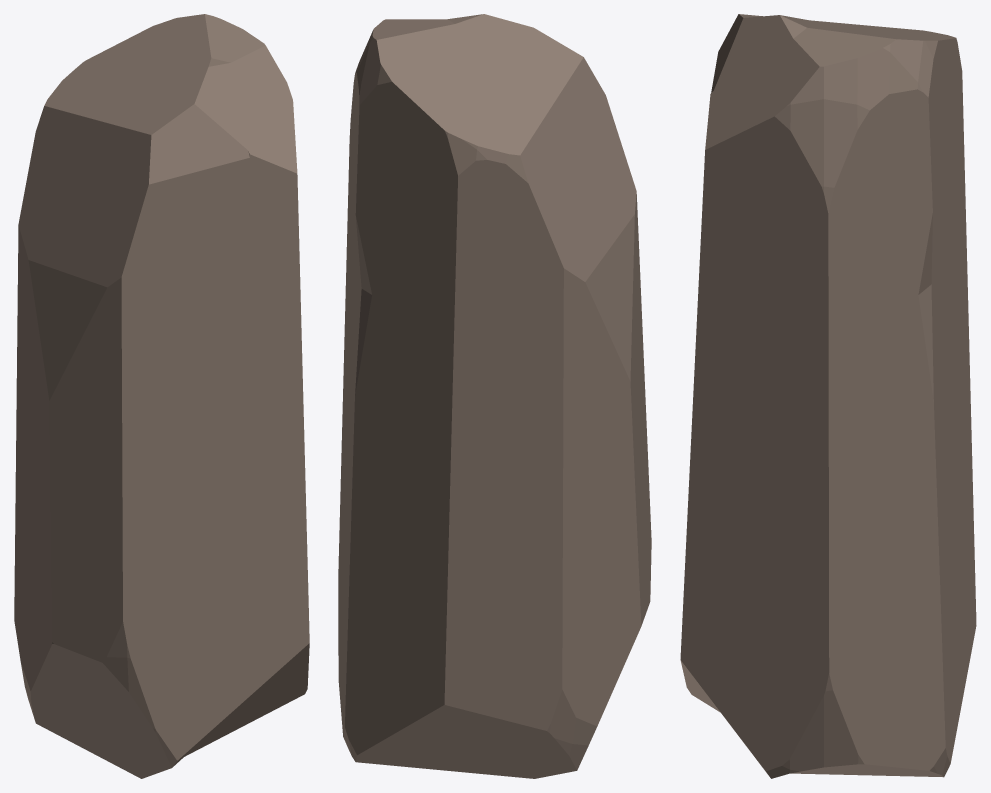
Rendered from rock.fbx.
The picture shows the model from 3 angles, left to right: view 1: azimuth 30°, elevation 25°; view 2: azimuth 150°, elevation 25°; view 3: azimuth 270°, elevation 25°; orthographic projection. The views are drawn at different scales.
Visible parts, largest first — view 1: Cube; view 2: Cube; view 3: Cube.
Part boxes in pixels (bbox=[...]): Cube: bbox=[14, 14, 309, 778]; Cube: bbox=[338, 14, 651, 778]; Cube: bbox=[680, 14, 976, 778].
Size of the model in its own units: 496 by 1249 by 429.
